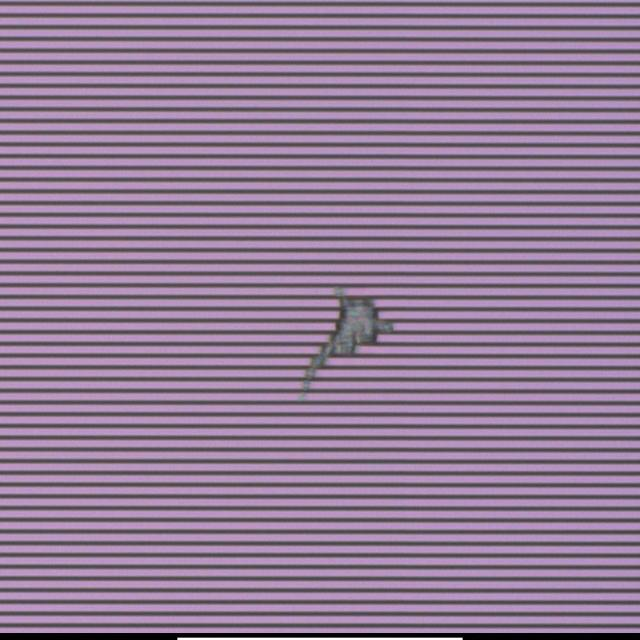03_intrusion: (295, 287, 400, 406)
